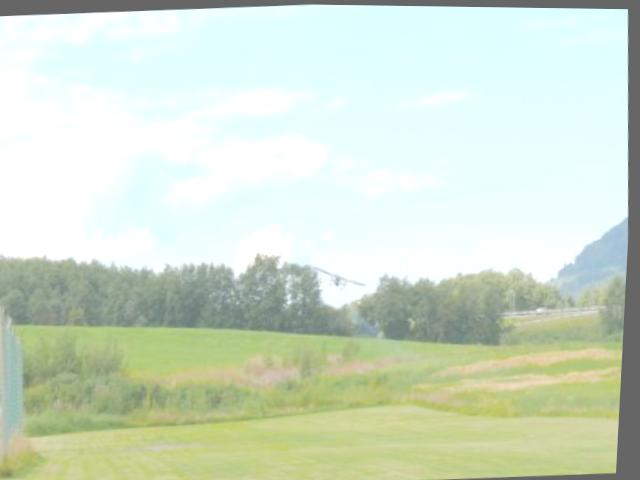uav: (312, 253, 371, 296)
